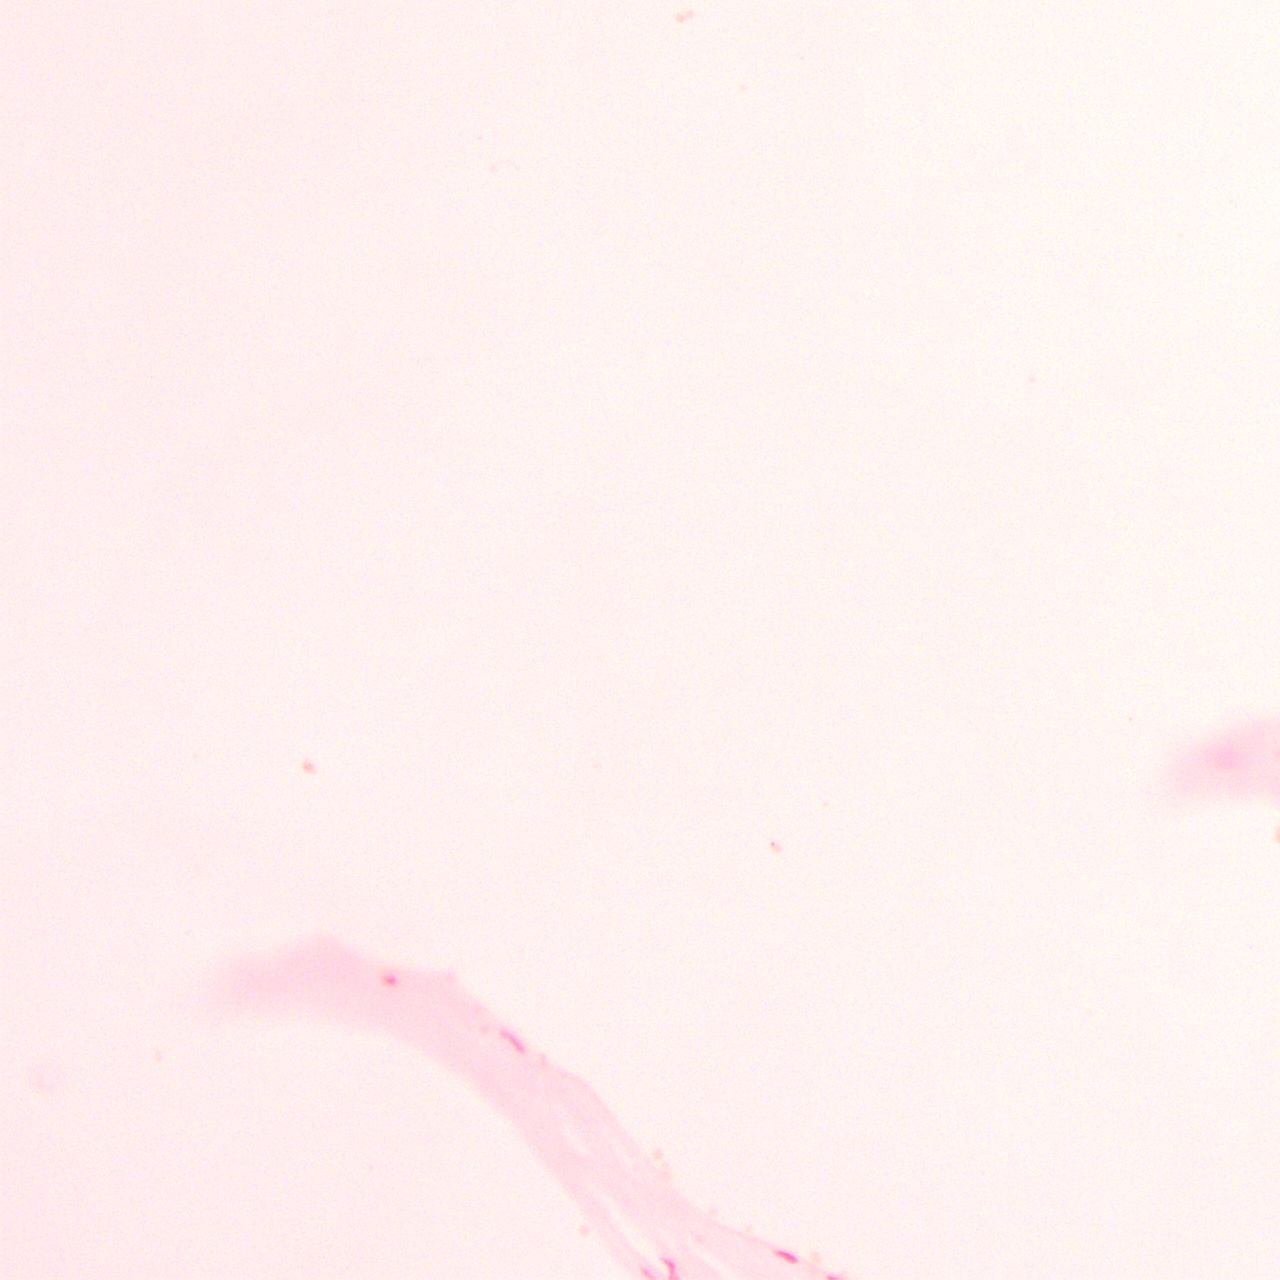nucleus-AC: (499, 1024, 532, 1058), (774, 1245, 801, 1267), (662, 1257, 678, 1280), (381, 974, 399, 986)
